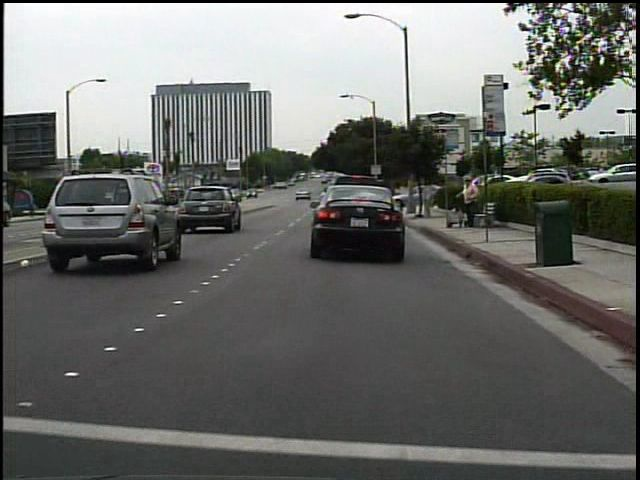person: (455, 173, 483, 229), (418, 174, 441, 221)
